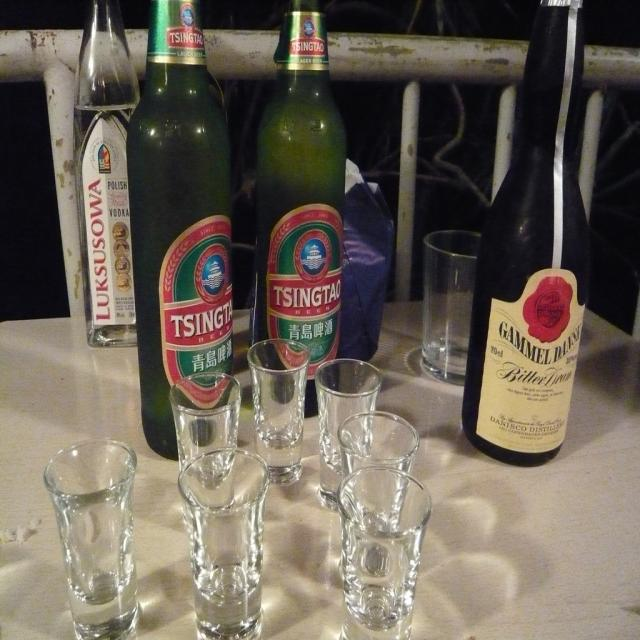tsingtao: (159, 216, 235, 408), (268, 204, 342, 378), (286, 16, 330, 59), (166, 2, 206, 48)
